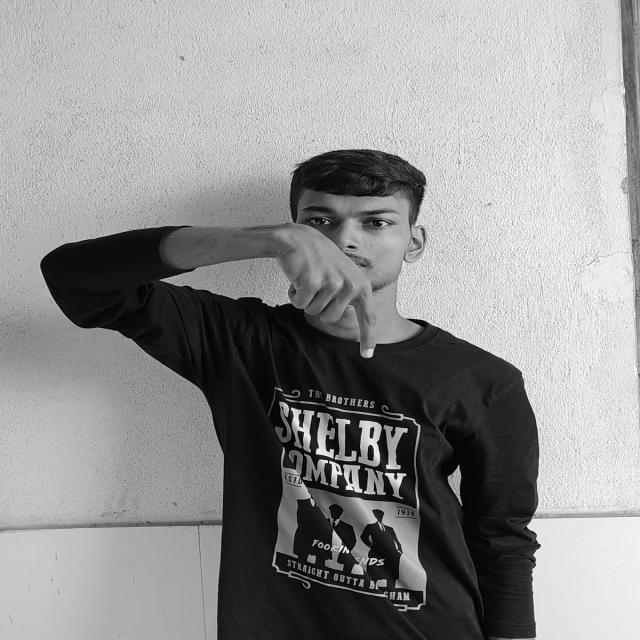Now: (265, 224, 382, 360)
